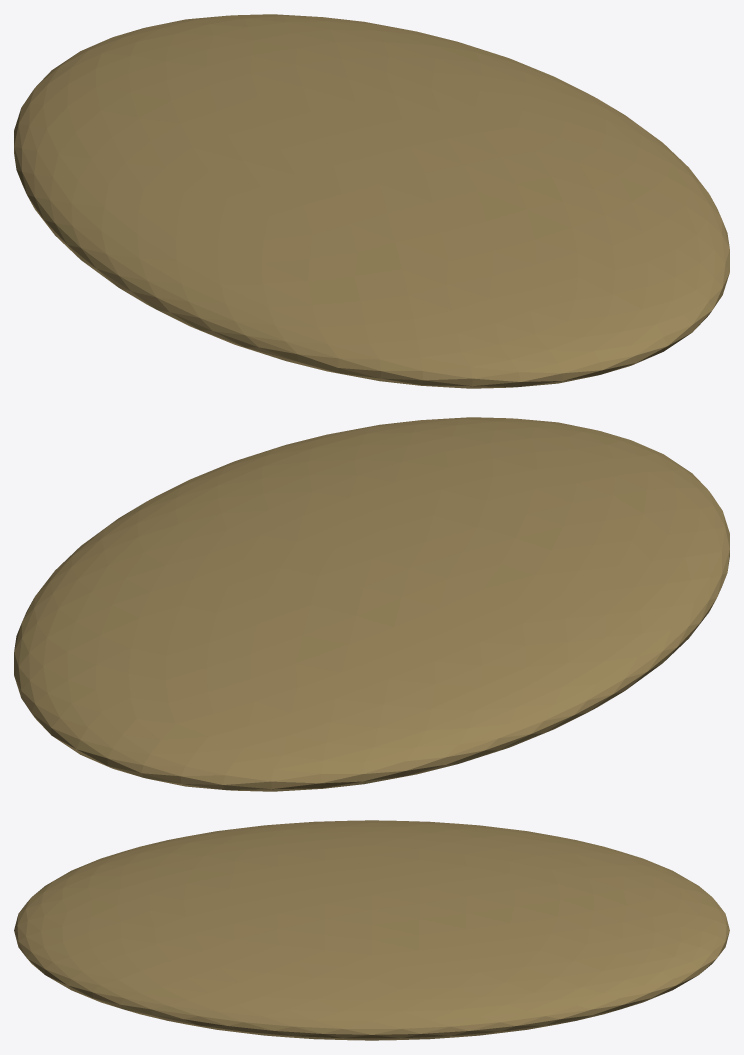
Rendered from belly_patch.obj.
3 renders of one model, top to bottom at view 1: azimuth 30°, elevation 25°; view 2: azimuth 150°, elevation 25°; view 3: azimuth 270°, elevation 25°, orthographic. The views are drawn at different scales.
Size of the model in its own units: 0.138 by 0.022 by 0.2.
